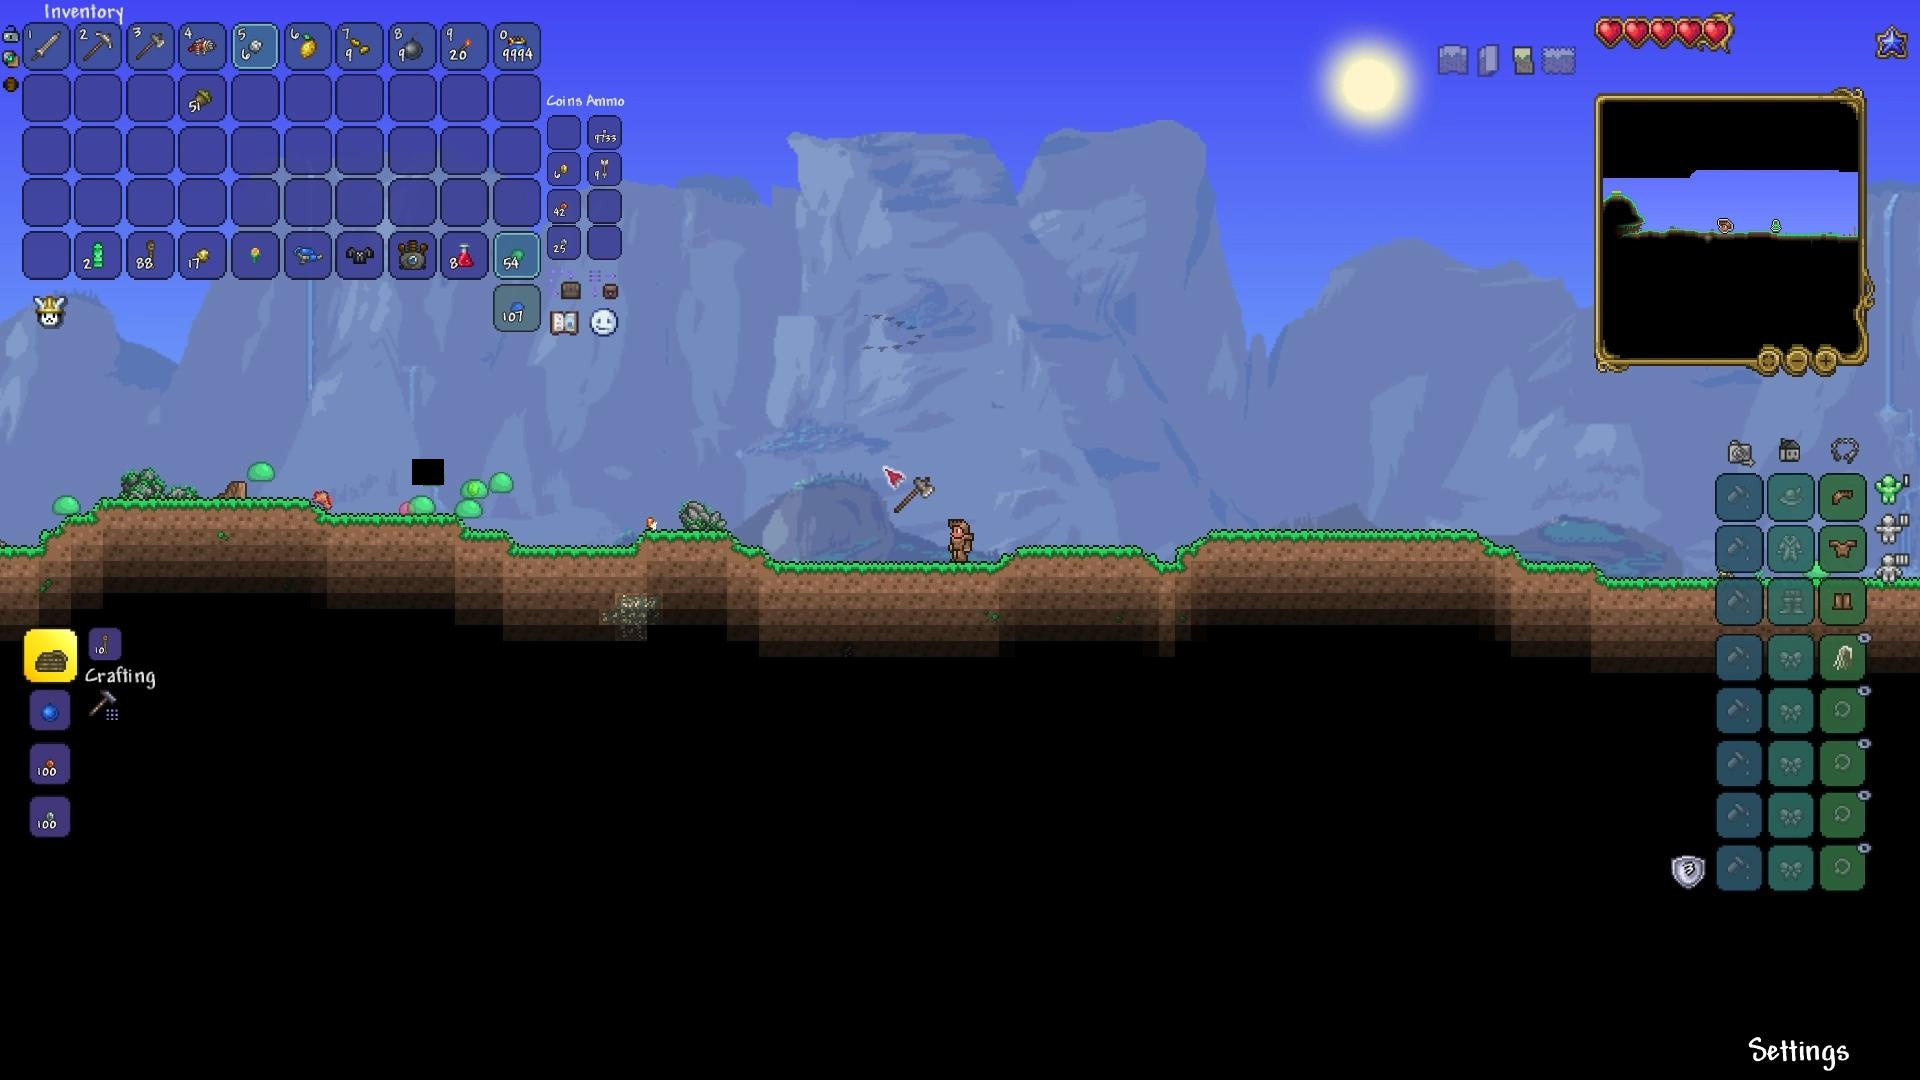breastplate: (1829, 537, 1859, 558)
helmet: (1828, 483, 1858, 509)
legs: (1832, 588, 1855, 617)
slime: (244, 458, 282, 484), (456, 467, 487, 497), (487, 468, 518, 495), (454, 500, 483, 527), (407, 495, 436, 520), (51, 495, 82, 518)
